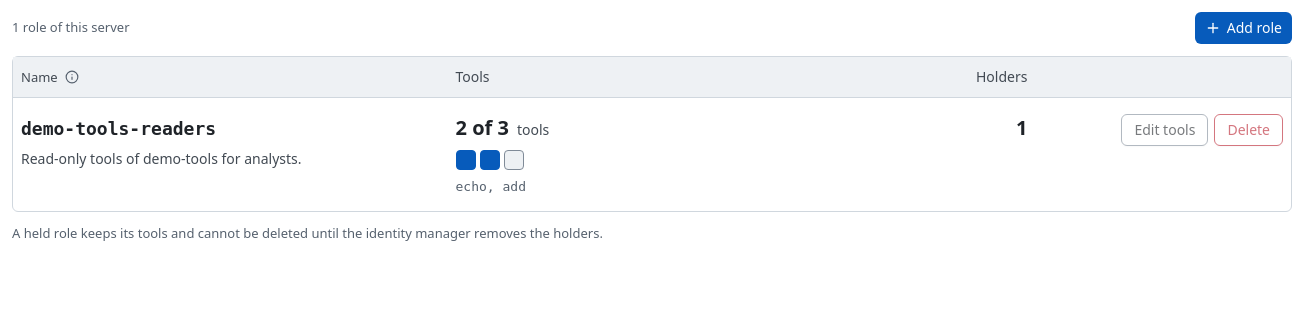
Test: the Roles tab of a server › greys both acts on a held role for a server admin and says the server's sentence on a click
What coordinates should you click on to do the following:
click the button "Edit tools"
I would click on:
 (1165, 130)
Its box is [1121, 114, 1208, 146].
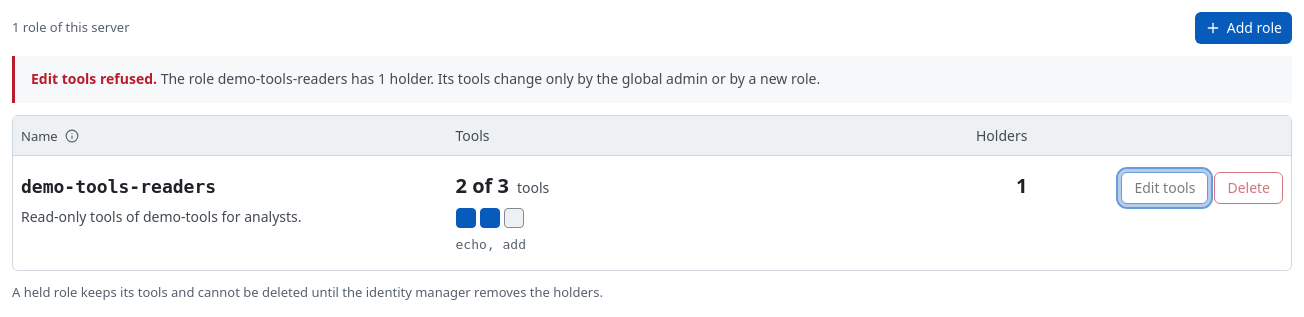
Expected: the message shows "Edit tools refused. The role demo-tools-readers has 1 holder. Its tools change only by the global admin or by a new role.", [12, 56, 1292, 103]
What coordinates should you click on to do the following:
click the button "Delete"
I would click on:
 (1249, 188)
Its box is [1214, 172, 1283, 204].
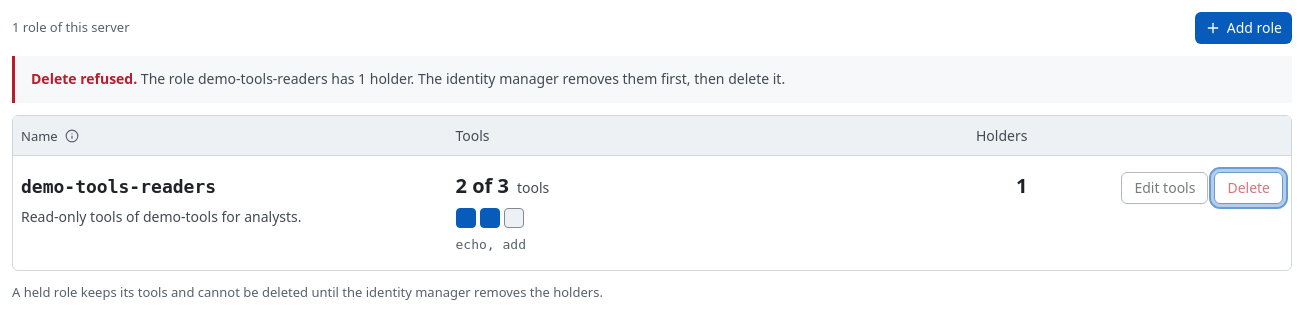
Expected: the message shows "Delete refused. The role demo-tools-readers has 1 holder. The identity manager removes them first, then delete it.", [12, 56, 1292, 103]
